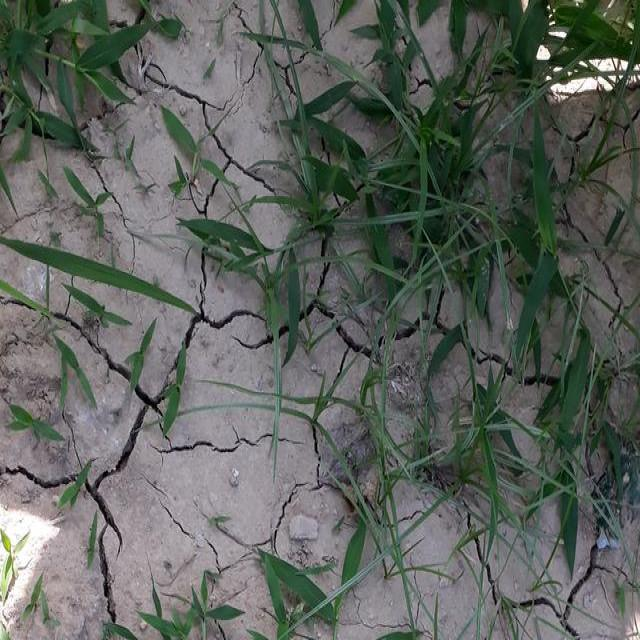weed: (283, 7, 640, 528), (0, 0, 149, 133), (338, 488, 456, 598), (192, 218, 304, 322), (462, 537, 549, 640), (138, 571, 239, 640), (258, 549, 334, 640), (160, 112, 246, 191), (59, 279, 127, 332), (64, 166, 114, 238), (5, 402, 66, 452), (161, 351, 192, 437), (118, 137, 155, 203), (126, 327, 154, 407), (606, 544, 636, 618), (61, 454, 99, 509), (204, 3, 238, 47), (0, 527, 27, 581), (0, 144, 17, 227), (26, 580, 56, 627), (82, 512, 101, 576), (90, 612, 133, 640), (34, 171, 62, 204), (199, 511, 239, 534), (200, 58, 222, 86)
